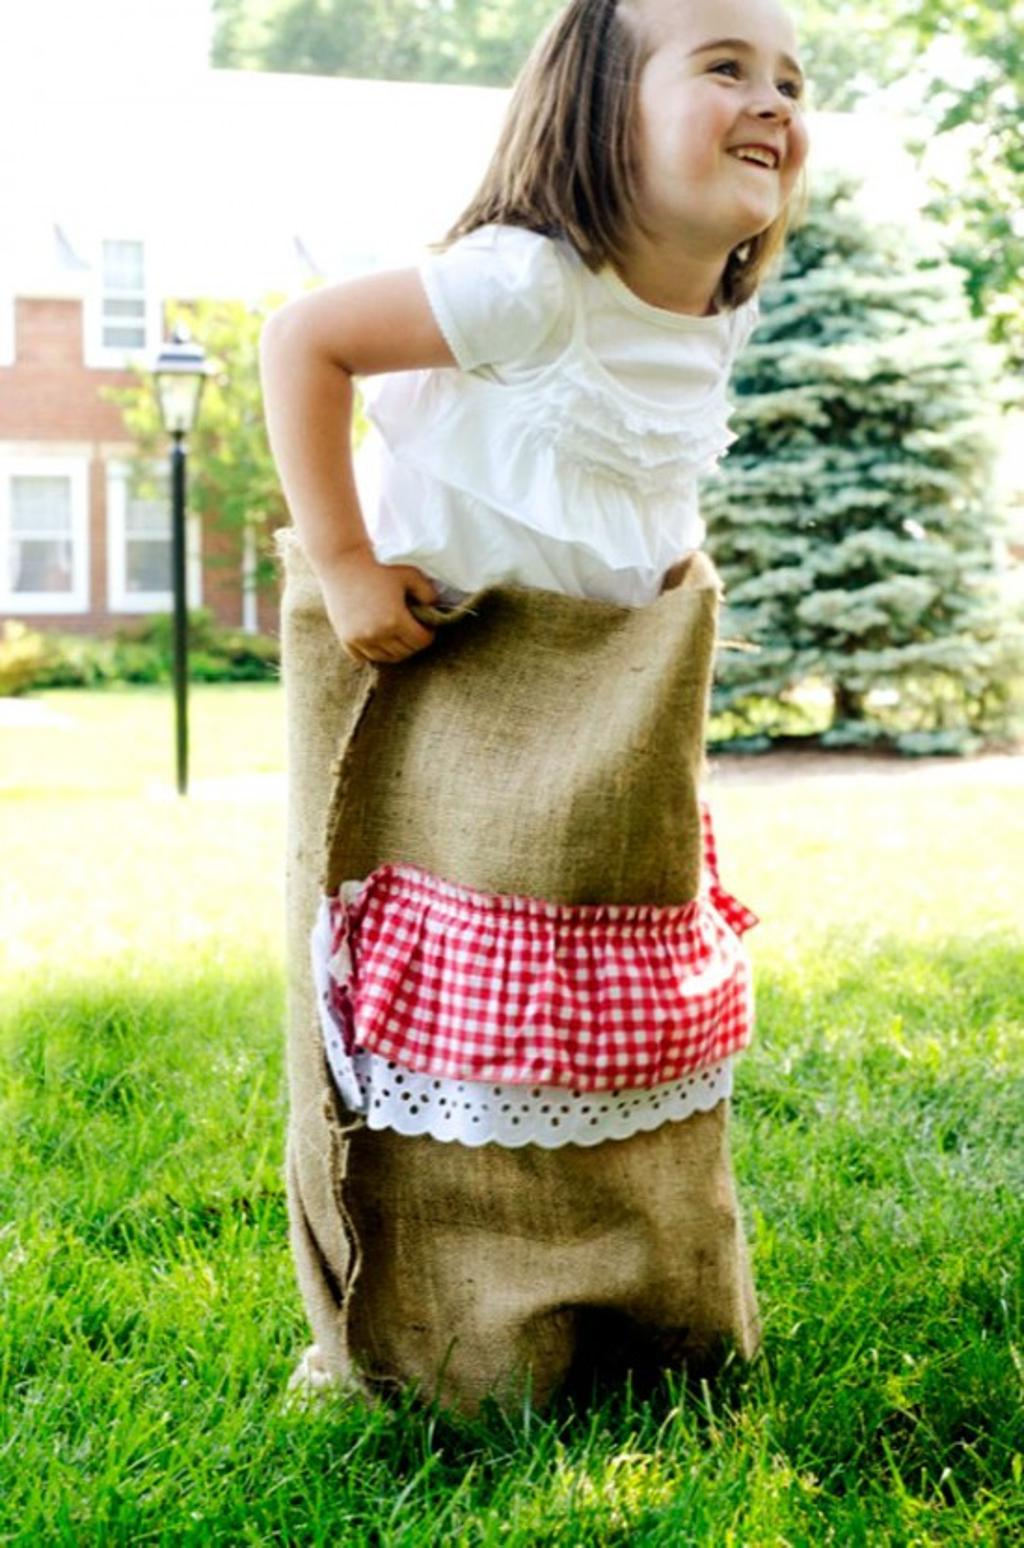face: (647, 7, 813, 228)
